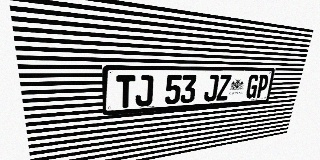3: (180, 75, 197, 104)
5: (165, 75, 182, 105)
G: (245, 74, 260, 99)
J: (135, 75, 154, 107), (203, 75, 219, 102)
P: (255, 74, 269, 98)
T: (116, 75, 135, 108)
Z: (216, 75, 232, 101)
